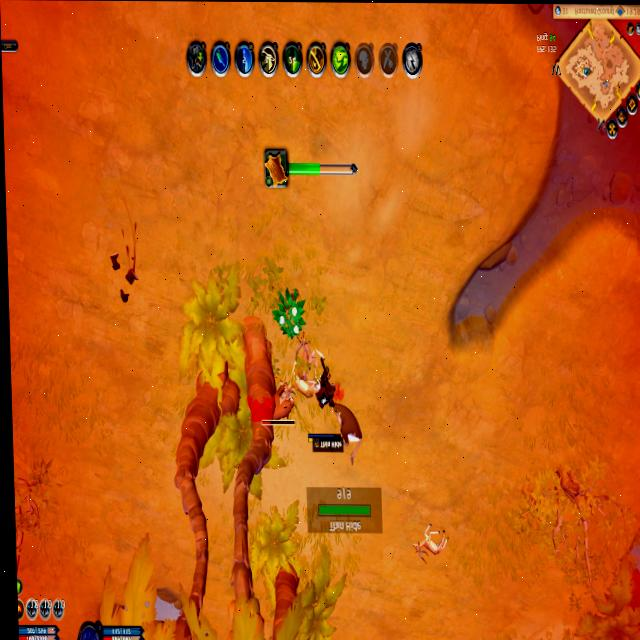hide: (273, 287, 307, 343)
mob: (282, 334, 322, 400), (326, 403, 364, 469), (412, 523, 450, 565)
ore: (247, 377, 299, 427)
red: (307, 364, 341, 446)
